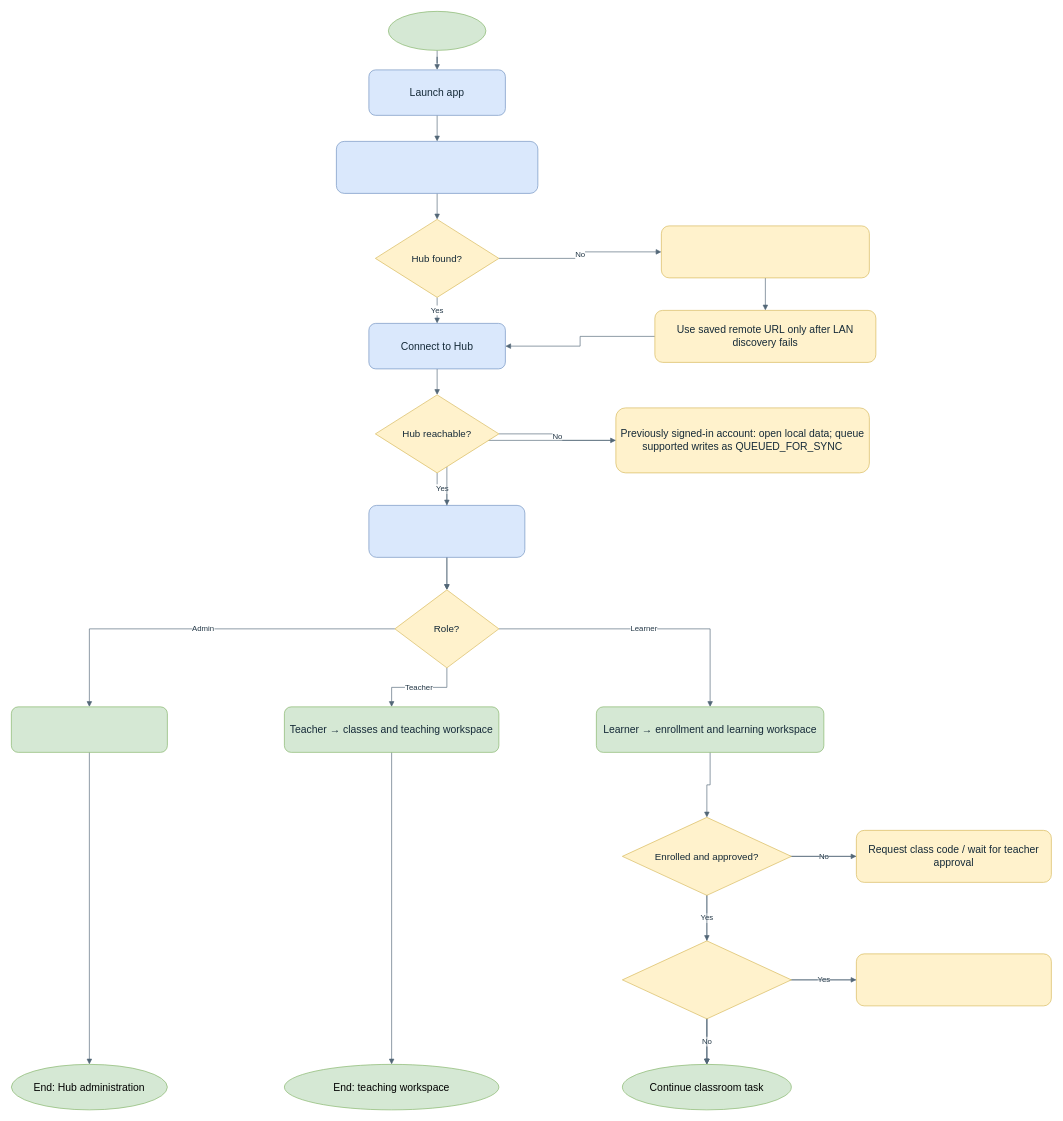
This 1063x1121 diagram has some shape labels left out. Each missing label, with the centre of its shape:
"Admin → Hub console" belongs at point (89, 729).
"Enter or select manual IP / saved remote URL" belongs at point (765, 251).
"Find Hub: mDNS / UDP beacon" belongs at point (437, 167).
"Quiz attempt in progress?" belongs at point (706, 979).
"Sign in with Hub-created credentials" belongs at point (446, 531).
"Start" belongs at point (437, 30).
"Tutor unavailable while quiz attempt is active" belongs at point (953, 979).
